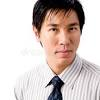No-Glasses: (45, 23, 80, 37)
